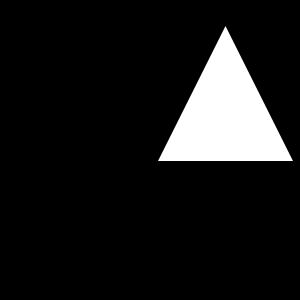triangle: (158, 26, 293, 161)
